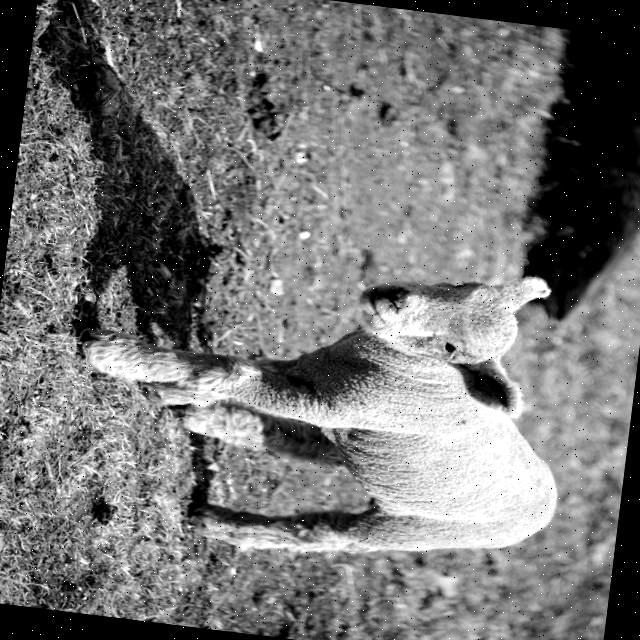sheep: (93, 275, 557, 555)
